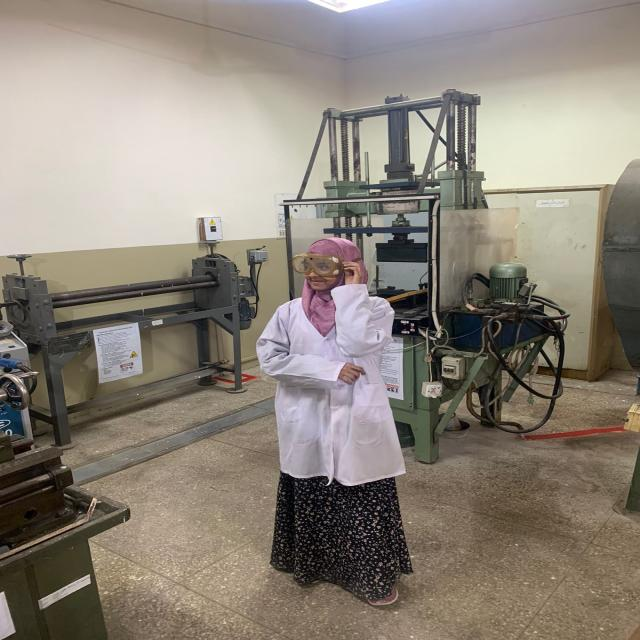googles: (290, 253, 341, 276)
labcoat: (254, 281, 408, 488)
